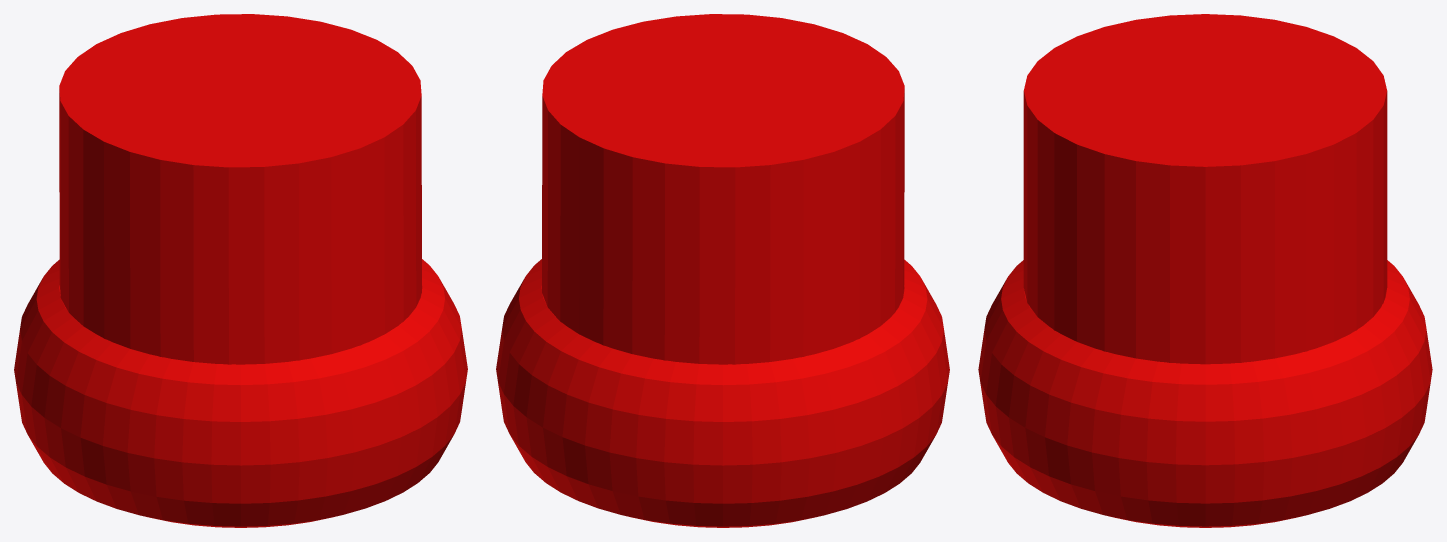
The model's file is enemy_spawner.glb.
3 views of the same model, side by side, from view 1: azimuth 30°, elevation 25°; view 2: azimuth 150°, elevation 25°; view 3: azimuth 270°, elevation 25° (orthographic).
Parts seen in each view (by area): view 1: Cylinder, Torus; view 2: Cylinder, Torus; view 3: Cylinder, Torus.
Boxes of the visible parts, x1,y1,x2,y2 form: Cylinder: [59, 14, 421, 364]; Torus: [14, 259, 467, 527]; Cylinder: [542, 14, 904, 364]; Torus: [496, 259, 949, 527]; Cylinder: [1023, 14, 1387, 364]; Torus: [978, 260, 1432, 527].
Bounding box in the file's own units: 2.5 × 2.19 × 2.5.
